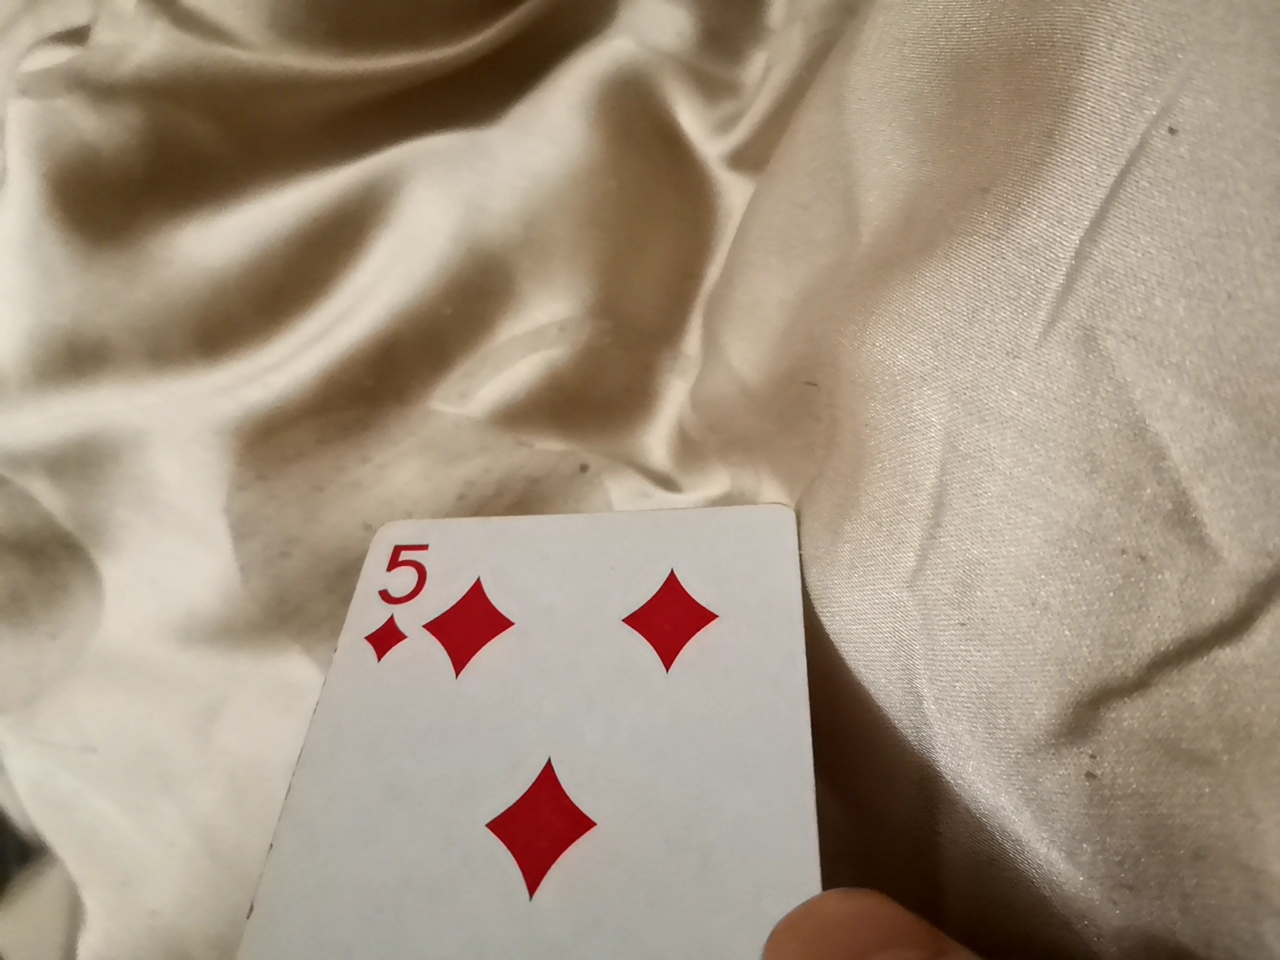fk 5: (298, 480, 806, 949)
